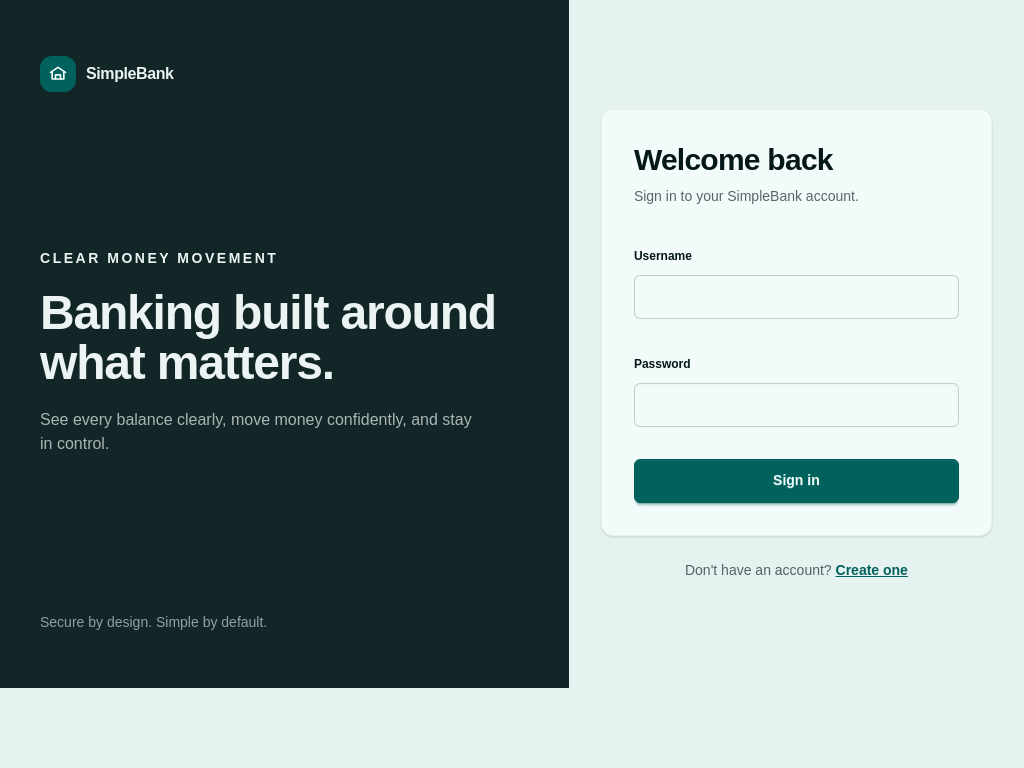
Scenario: LoginPage › blocks invalid submission, focuses the first invalid field, and clears its error on edit
Type "password" into the password field labelled "Password". click: (796, 404)
box: [634,382,959,426]
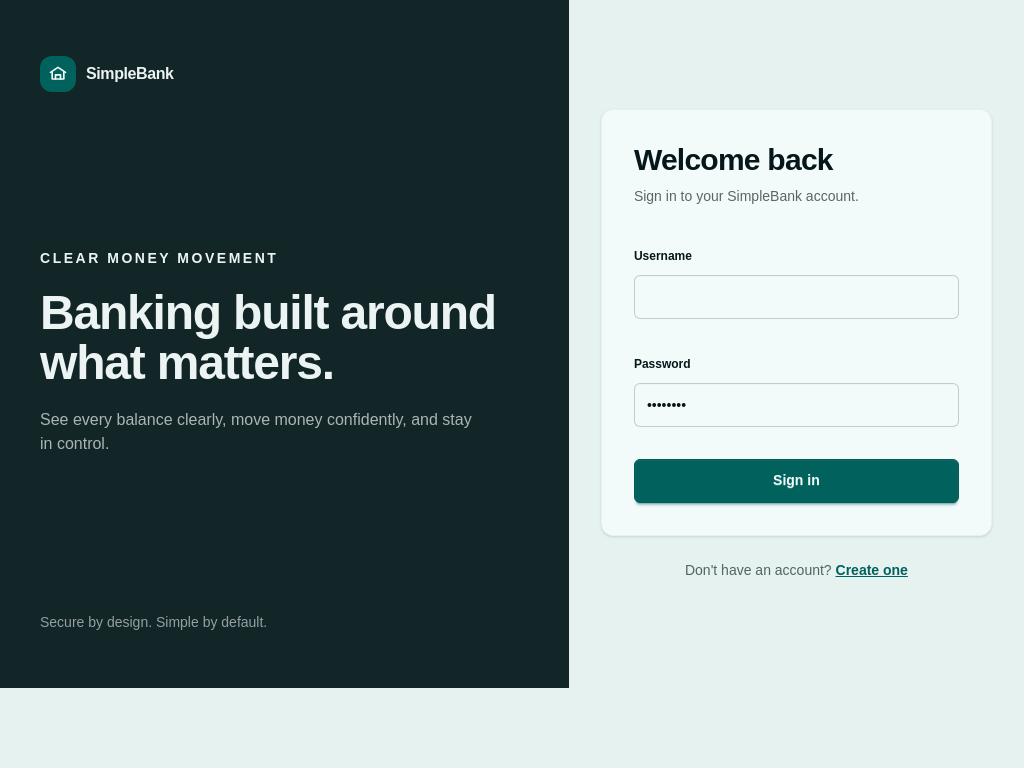
Submit the form "Sign in", box [634,234,959,502]
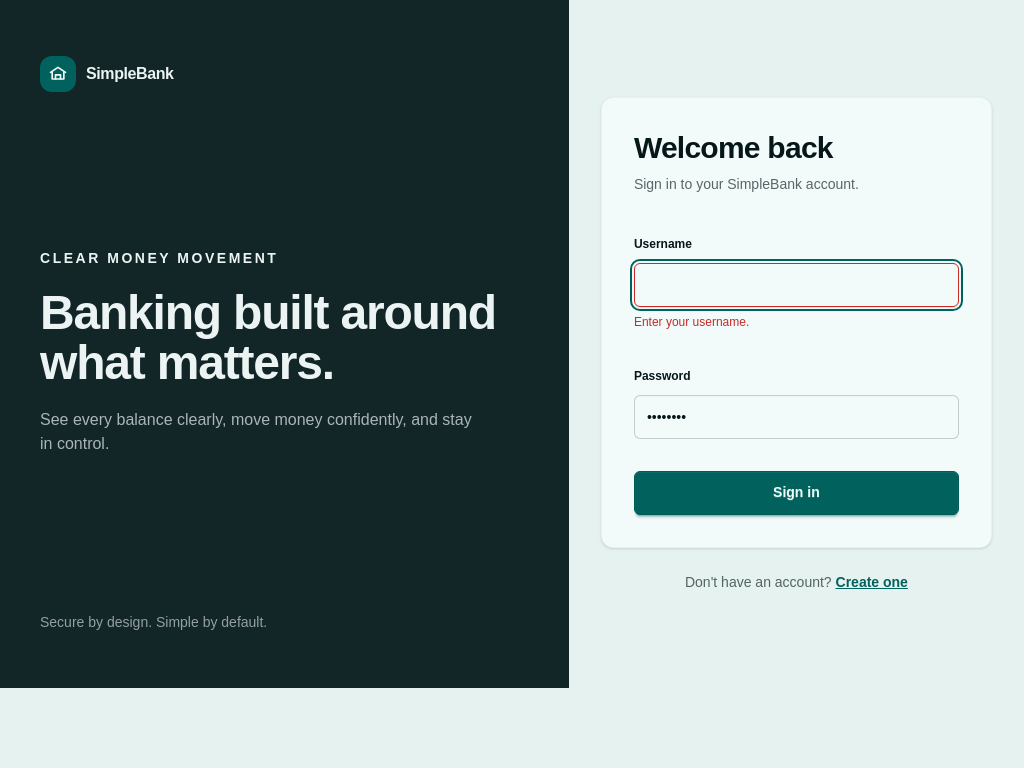
Result: the text "Enter your username." is shown at [634,314,749,328]
Type "alice01" into the field labelled "Username". click: (796, 284)
box: [634,262,959,306]
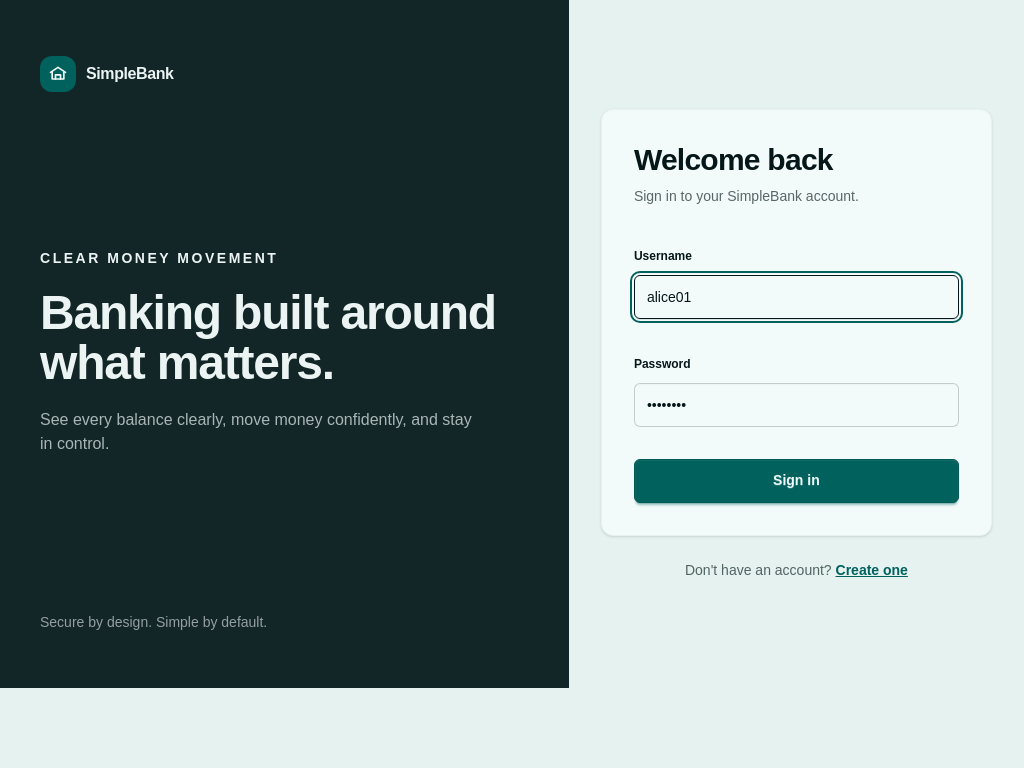
Result: the text "Enter your username." is gone
